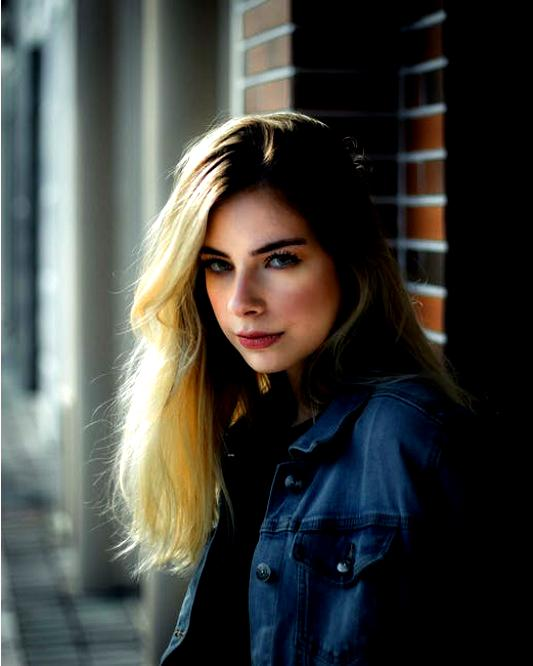face: (200, 192, 336, 375)
